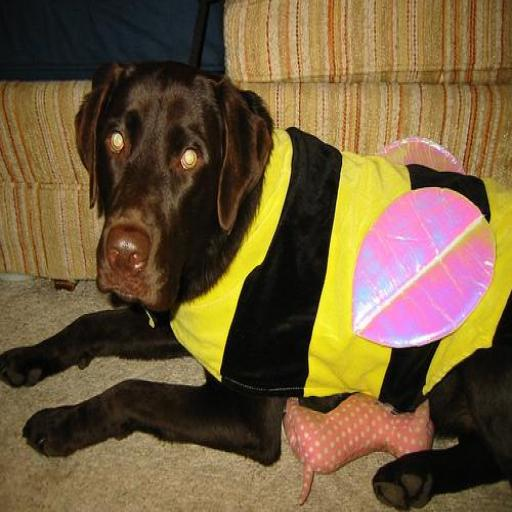dog_face: (71, 55, 263, 312)
